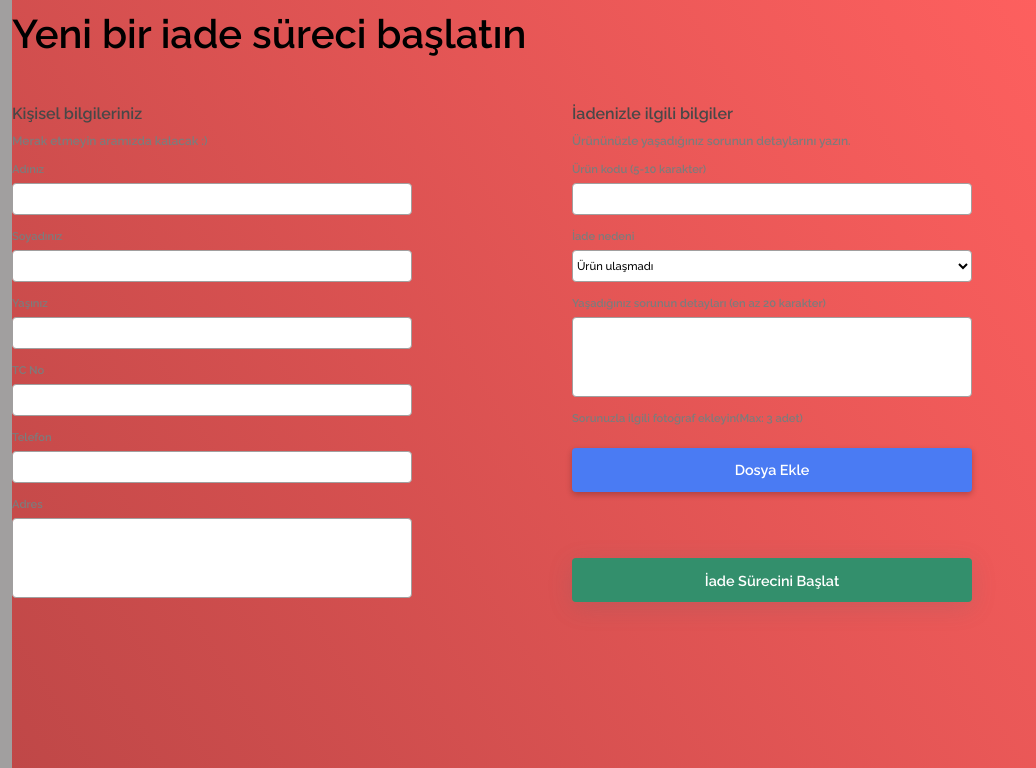
New ticket page form tests › if text area fields shows min length error
The width and height of the screenshot is (1036, 768).
In the text box labelled "Adres": (212, 558) [12,518,412,598], type "five word"
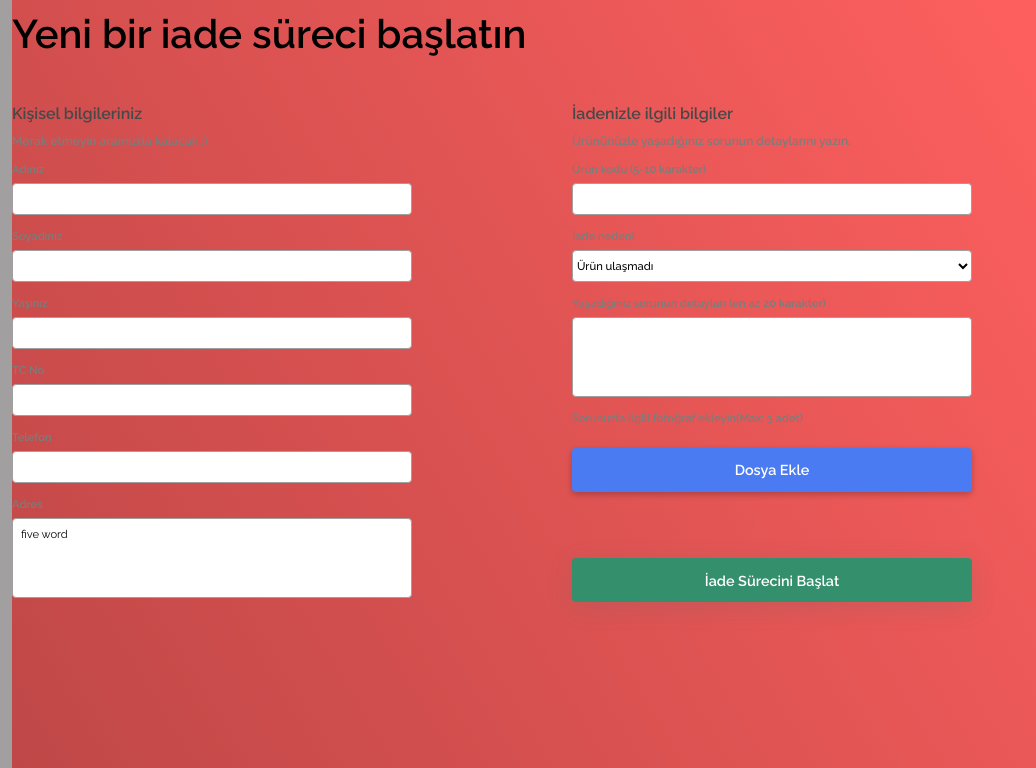
In the text box labelled "Yaşadığınız sorunun detayları (en az 20 karakter)": (772, 357) [572,317,972,397], type "six word"
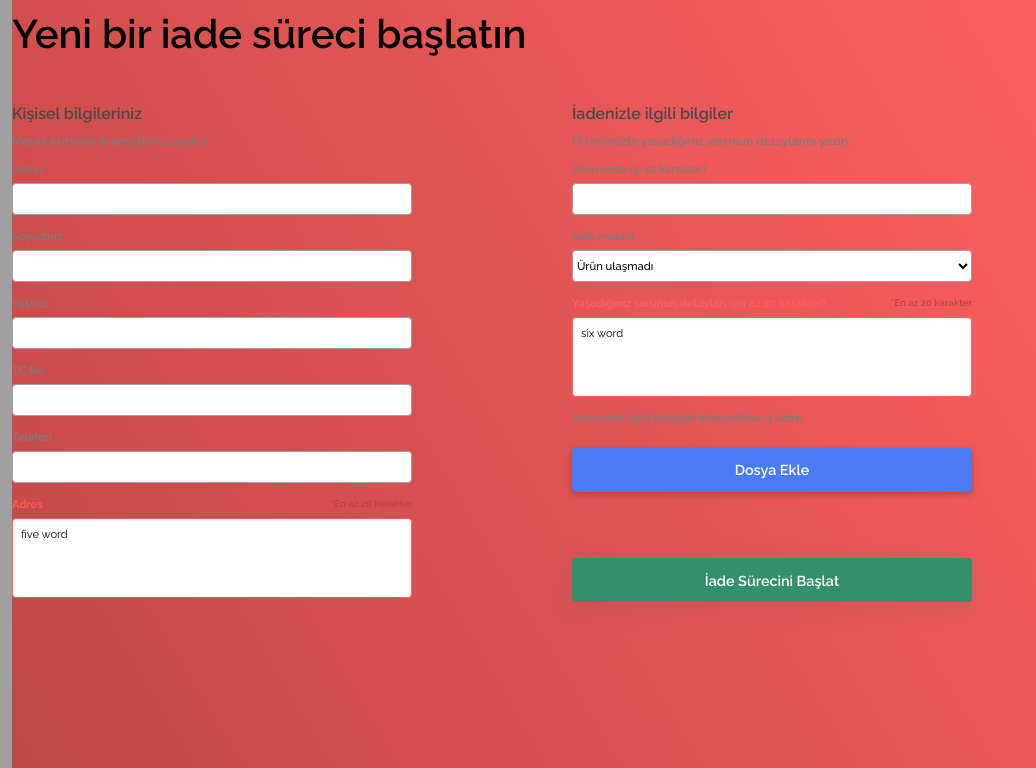
Expected: the message with test id "test-stattext-ticketAddress" reads "*En az 20 karakter", [331,498,412,509]
Expected: the message with test id "test-stattext-ticketReasonDetail" reads "*En az 20 karakter", [891,297,972,308]
